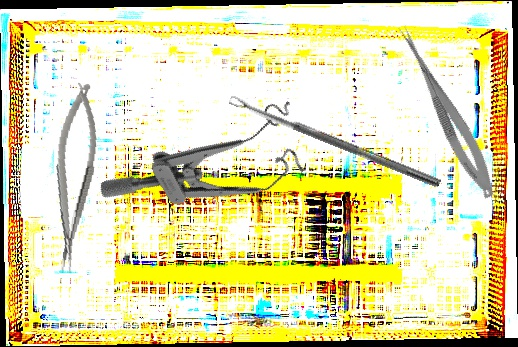Micro Scissor: (387, 21, 504, 203)
Needle Holder: (40, 80, 107, 275)
Speculum: (96, 83, 324, 263)
Surgical Spoon: (228, 94, 442, 188)
